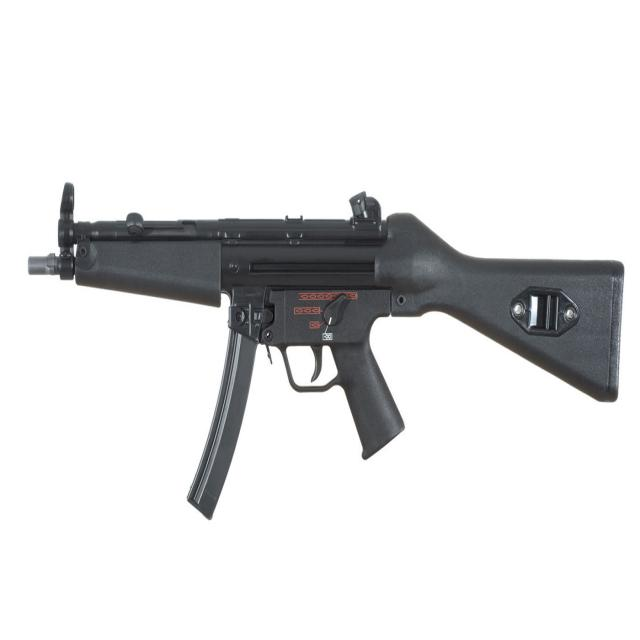SMG: (28, 184, 627, 523)
